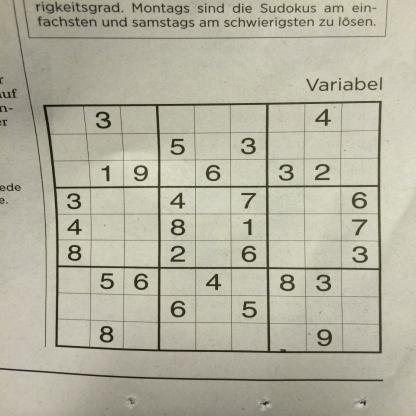sudoku: (38, 96, 388, 356)
